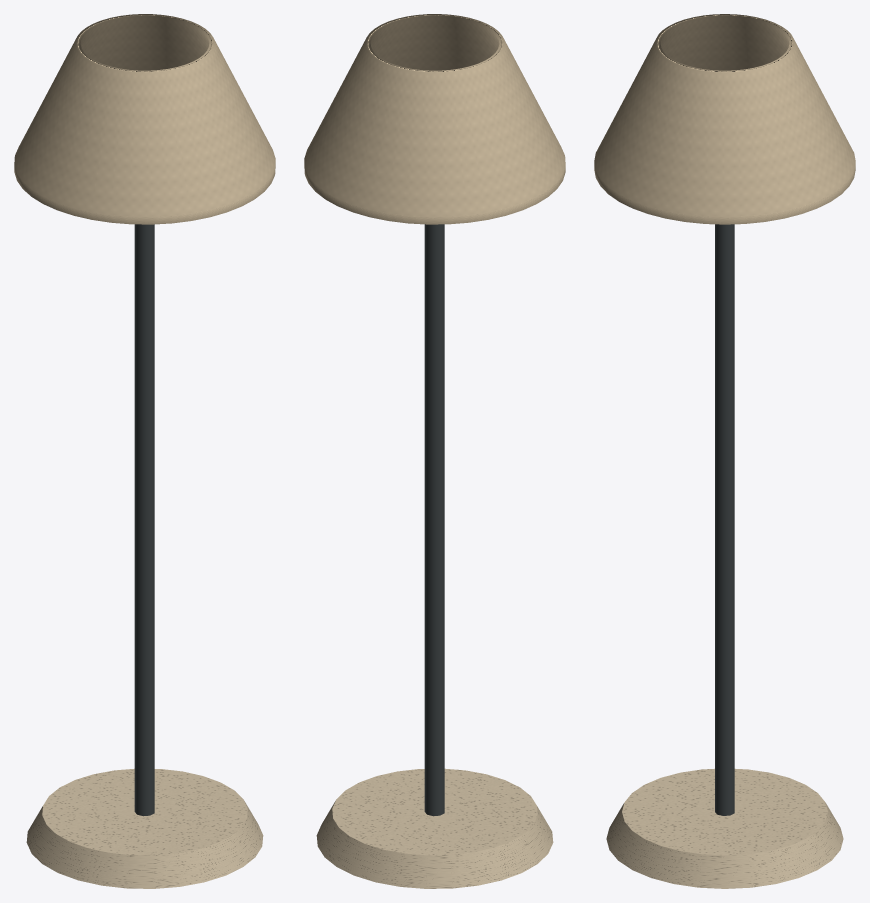
The model's file is floor_lamp_campus-3e6c30b2a599.glb.
3 views of the same model, side by side, from view 1: azimuth 30°, elevation 25°; view 2: azimuth 150°, elevation 25°; view 3: azimuth 270°, elevation 25° (orthographic).
Parts seen in each view (by area): view 1: surface_linen, surface_terrazzo, surface_graphite; view 2: surface_linen, surface_terrazzo, surface_graphite; view 3: surface_linen, surface_terrazzo, surface_graphite.
Boxes of the visible parts, x1,y1,x2,y2 form: surface_linen: [14, 14, 275, 224]; surface_terrazzo: [26, 768, 263, 888]; surface_graphite: [134, 224, 154, 816]; surface_linen: [304, 14, 565, 224]; surface_terrazzo: [316, 768, 553, 888]; surface_graphite: [424, 224, 444, 816]; surface_linen: [594, 14, 855, 224]; surface_terrazzo: [606, 768, 843, 888]; surface_graphite: [715, 224, 734, 815].
Size of the model in its own units: 0.386 by 1.29 by 0.386.
Materials: 4 (2 with a texture image).
